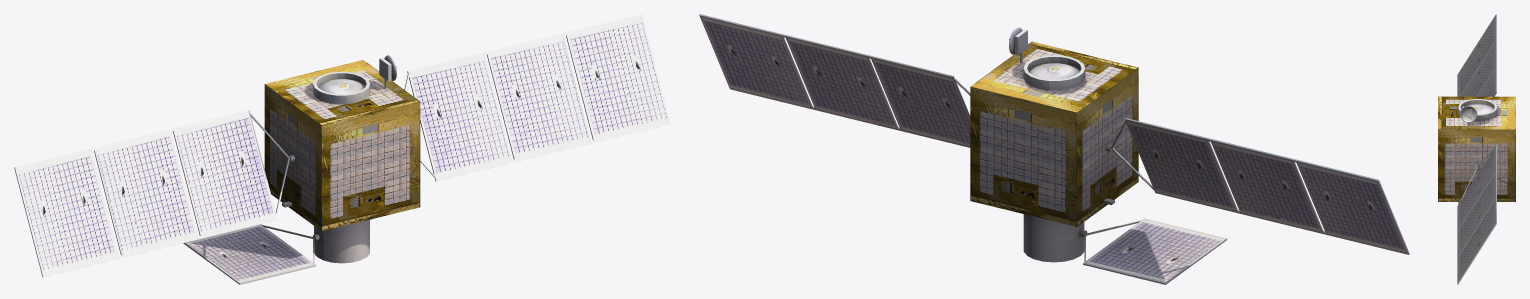
3 renders of one model, left to right at view 1: azimuth 30°, elevation 25°; view 2: azimuth 150°, elevation 25°; view 3: azimuth 270°, elevation 25°, orthographic. The views are drawn at different scales.
Parts seen in each view (by area): view 1: wx.002; view 2: wx.002; view 3: wx.002.
Part boxes in pixels (x1,y1,x2,y2): wx.002: [14, 14, 670, 284]; wx.002: [699, 14, 1409, 284]; wx.002: [1438, 14, 1515, 284].
Bounding box in the file's own units: 2888 × 849 × 454.
Materials: 1 (1 with a texture image).
